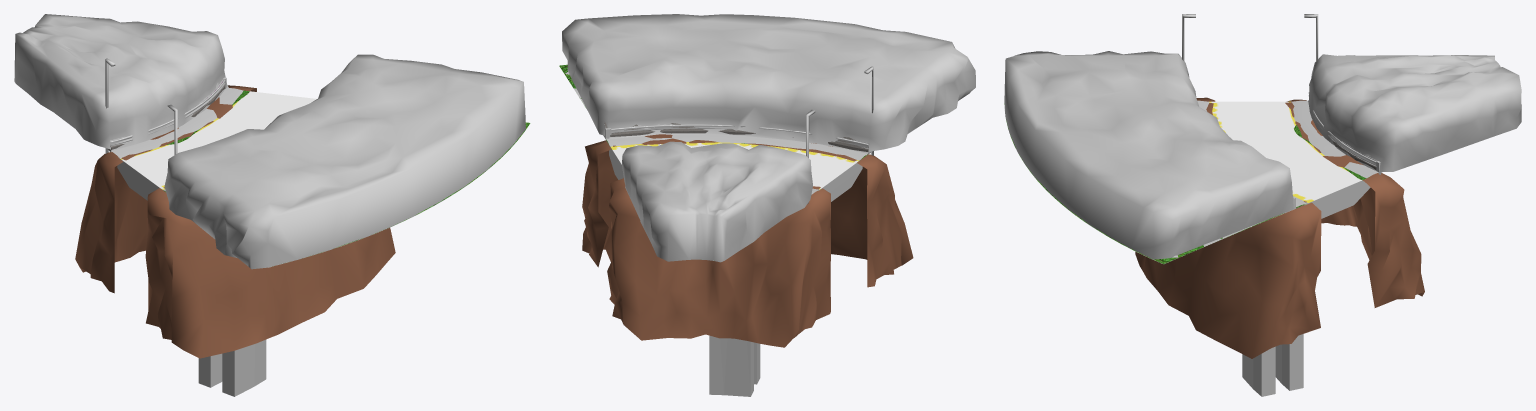
The model's file is RoadLeft_LOD1.fbx.
3 views of the same model, side by side, from view 1: azimuth 30°, elevation 25°; view 2: azimuth 150°, elevation 25°; view 3: azimuth 270°, elevation 25° (orthographic). The views are drawn at different scales.
Visible parts, largest first — view 1: MountainRight, CliffRight, MountainLeft, CliffLeft, Road Mask, Road, PianoLeft, RailGuardLeft; view 2: MountainRight, CliffLeft, MountainLeft, CliffRight, Road, PianoRight, Road Mask, ConcreteWallRight, RailGuardRight; view 3: MountainRight, MountainLeft, CliffRight, CliffLeft, Road Mask, Road, PianoLeft.
Boxes of the visible parts, bbox=[...] form: MountainRight: bbox=[164, 54, 525, 269]; CliffRight: bbox=[145, 187, 395, 358]; MountainLeft: bbox=[14, 14, 228, 151]; CliffLeft: bbox=[75, 85, 256, 293]; Road Mask: bbox=[121, 91, 316, 189]; Road: bbox=[117, 157, 266, 396]; PianoLeft: bbox=[112, 87, 243, 158]; RailGuardLeft: bbox=[110, 79, 225, 146]; MountainRight: bbox=[562, 14, 975, 155]; CliffLeft: bbox=[604, 178, 830, 347]; MountainLeft: bbox=[622, 141, 812, 262]; CliffRight: bbox=[582, 134, 913, 287]; Road: bbox=[609, 145, 862, 396]; PianoRight: bbox=[574, 88, 867, 160]; Road Mask: bbox=[611, 142, 859, 189]; ConcreteWallRight: bbox=[604, 121, 870, 153]; RailGuardRight: bbox=[611, 124, 868, 148]; MountainRight: bbox=[1004, 51, 1293, 259]; MountainLeft: bbox=[1308, 54, 1521, 174]; CliffRight: bbox=[1135, 97, 1321, 358]; CliffLeft: bbox=[1285, 99, 1424, 307]; Road Mask: bbox=[1209, 101, 1361, 202]; Road: bbox=[1242, 180, 1370, 396]; PianoLeft: bbox=[1291, 100, 1378, 178].
Size of what is drawn, in the model's own units: 886 by 755 by 1105.
